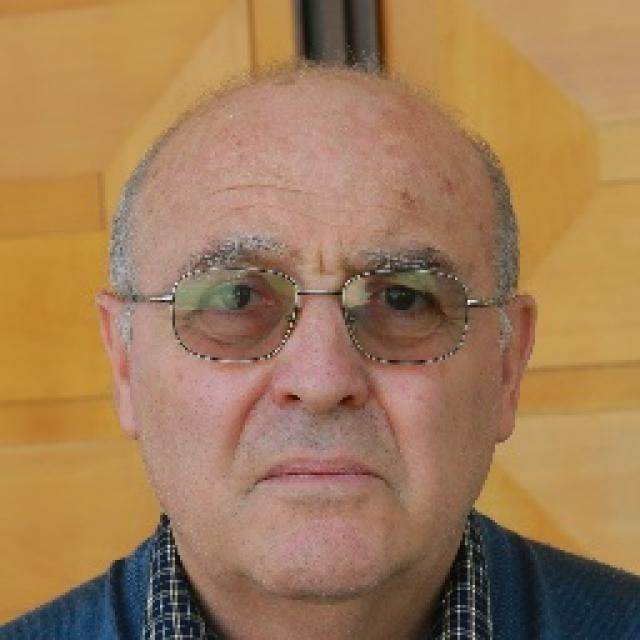earlobe: (498, 294, 538, 444), (98, 296, 138, 440)
